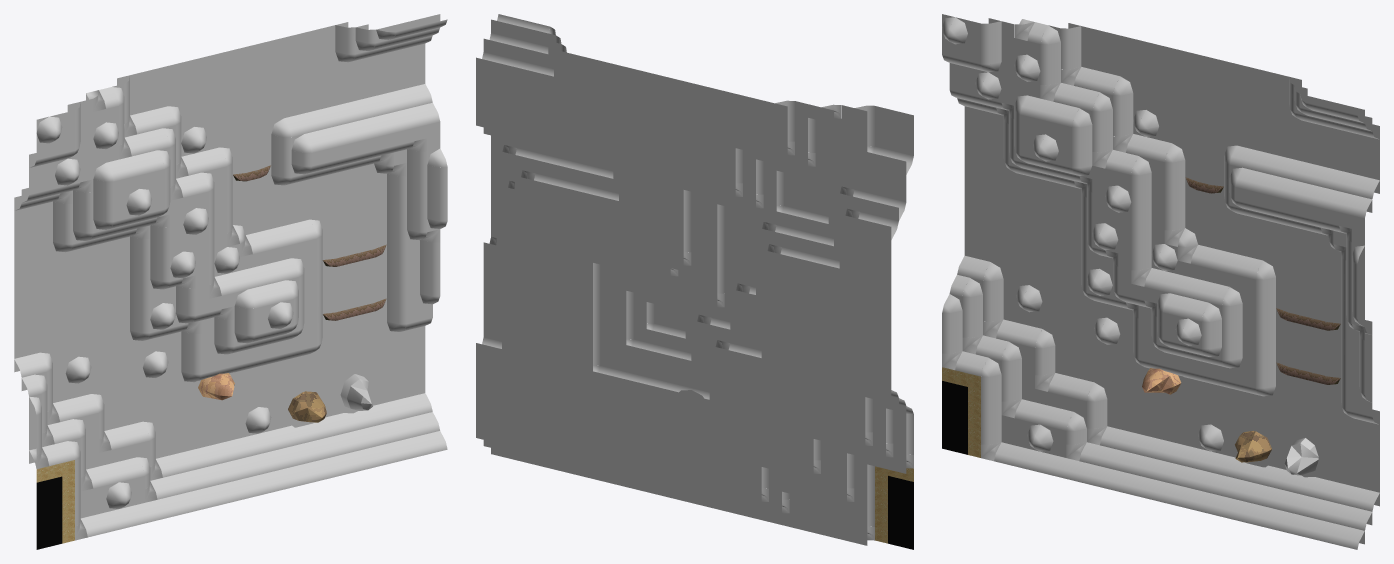
The model's file is Uluru-Cave-2_02_03.obj.
3 views of the same model, side by side, from view 1: azimuth 30°, elevation 25°; view 2: azimuth 150°, elevation 25°; view 3: azimuth 330°, elevation 25° (orthographic).
Parts seen in each view (by area): view 1: map; view 2: map; view 3: map.
Boxes of the visible parts, x1,y1,x2,y2 form: map: [14, 14, 447, 549]; map: [476, 14, 913, 549]; map: [942, 14, 1379, 549].
Size of the model in its own units: 32 by 32 by 4.
